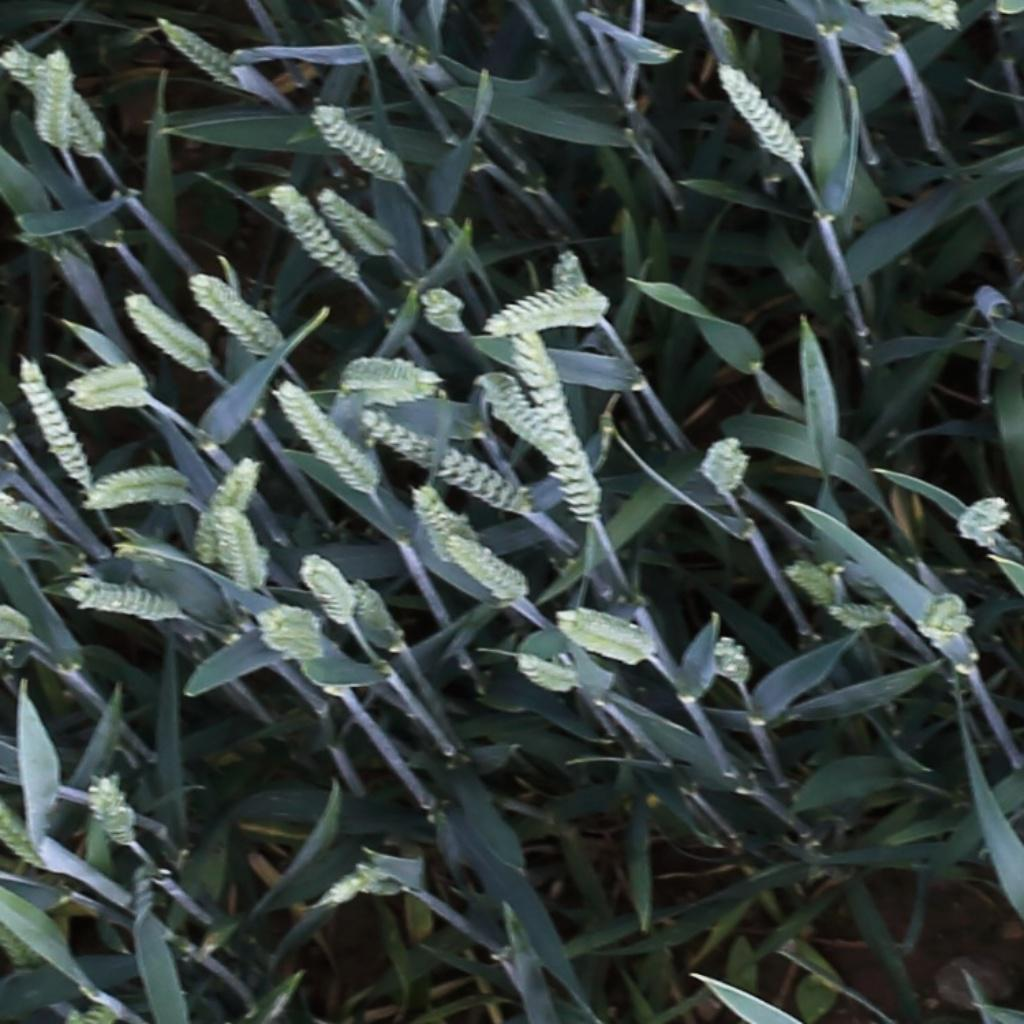0-0: (471, 331, 609, 516), (357, 399, 550, 527), (0, 46, 117, 148), (275, 379, 379, 490), (16, 350, 96, 488), (720, 64, 809, 165), (478, 278, 617, 338), (277, 188, 360, 282), (546, 601, 669, 664), (67, 459, 187, 518), (193, 456, 258, 563), (314, 105, 405, 178), (413, 486, 490, 571), (334, 351, 442, 409), (193, 274, 277, 348), (62, 564, 176, 617), (124, 294, 208, 365), (318, 185, 397, 251), (158, 17, 236, 81), (449, 521, 527, 582), (0, 775, 47, 875), (215, 503, 267, 593), (66, 359, 155, 410), (27, 47, 69, 155), (299, 554, 359, 628), (695, 430, 766, 492), (251, 604, 330, 659), (349, 574, 404, 651), (957, 487, 1010, 556), (91, 771, 136, 851), (0, 903, 38, 977), (789, 560, 845, 605), (518, 655, 580, 690), (0, 490, 45, 536), (550, 241, 585, 300), (469, 60, 499, 128), (871, 1, 958, 24), (824, 602, 888, 632), (715, 636, 753, 686), (424, 289, 465, 335)
